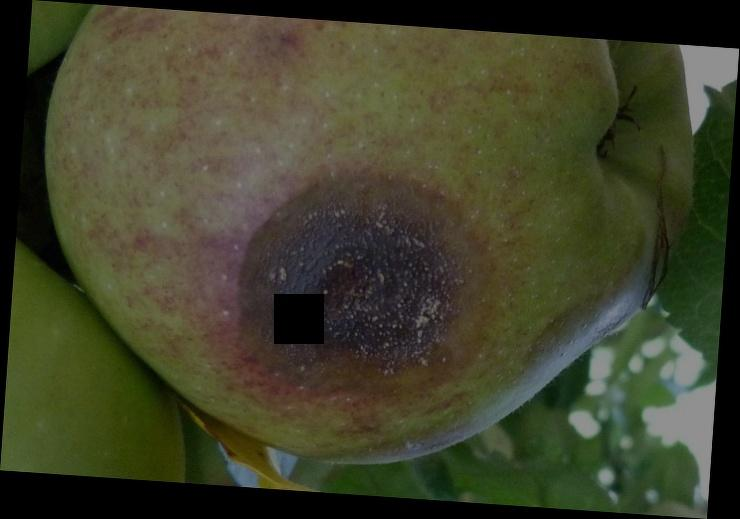rotten apple: (44, 24, 689, 465)
